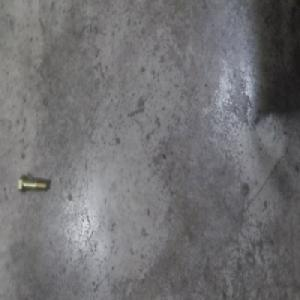Bolt: (18, 179, 48, 201)
